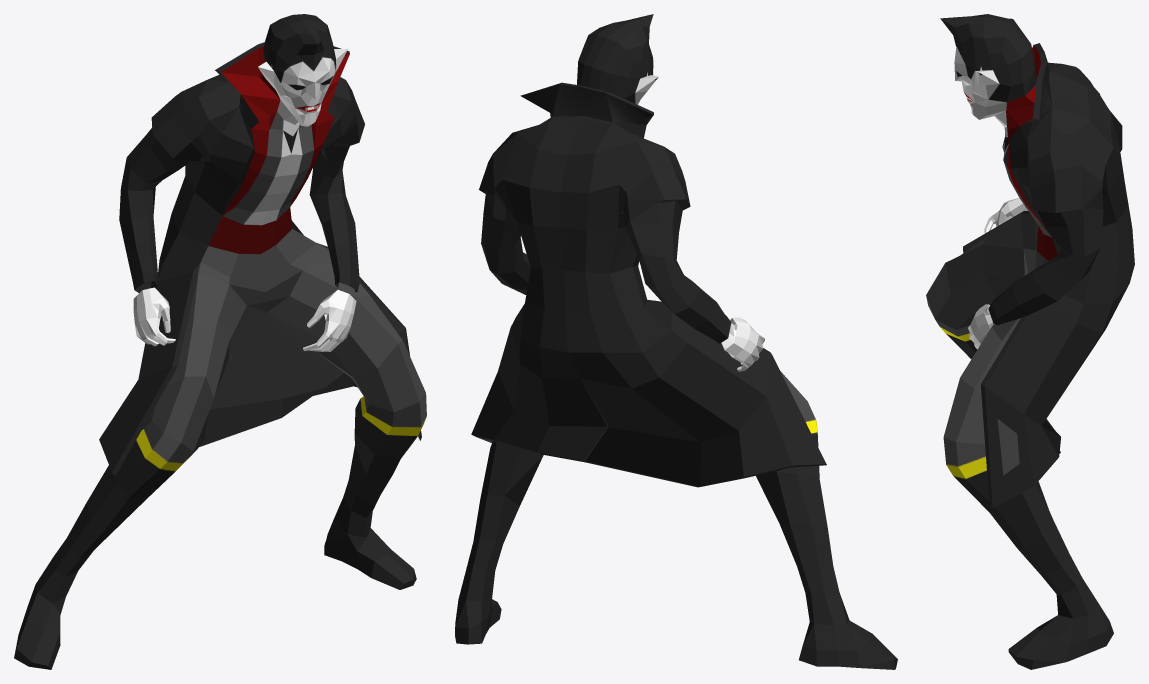
Rendered from VampireAttack(107).obj.
The picture shows the model from 3 angles, left to right: view 1: azimuth 30°, elevation 25°; view 2: azimuth 150°, elevation 25°; view 3: azimuth 270°, elevation 25°; orthographic projection. The views are drawn at different scales.
Visible parts, largest first — view 1: Plane002; view 2: Plane002; view 3: Plane002.
Boxes of the visible parts, x1,y1,x2,y2 form: Plane002: (14,14,426,669); Plane002: (455,14,897,669); Plane002: (926,14,1134,669).
Size of the model in its own units: 206 by 286 by 92.1.
